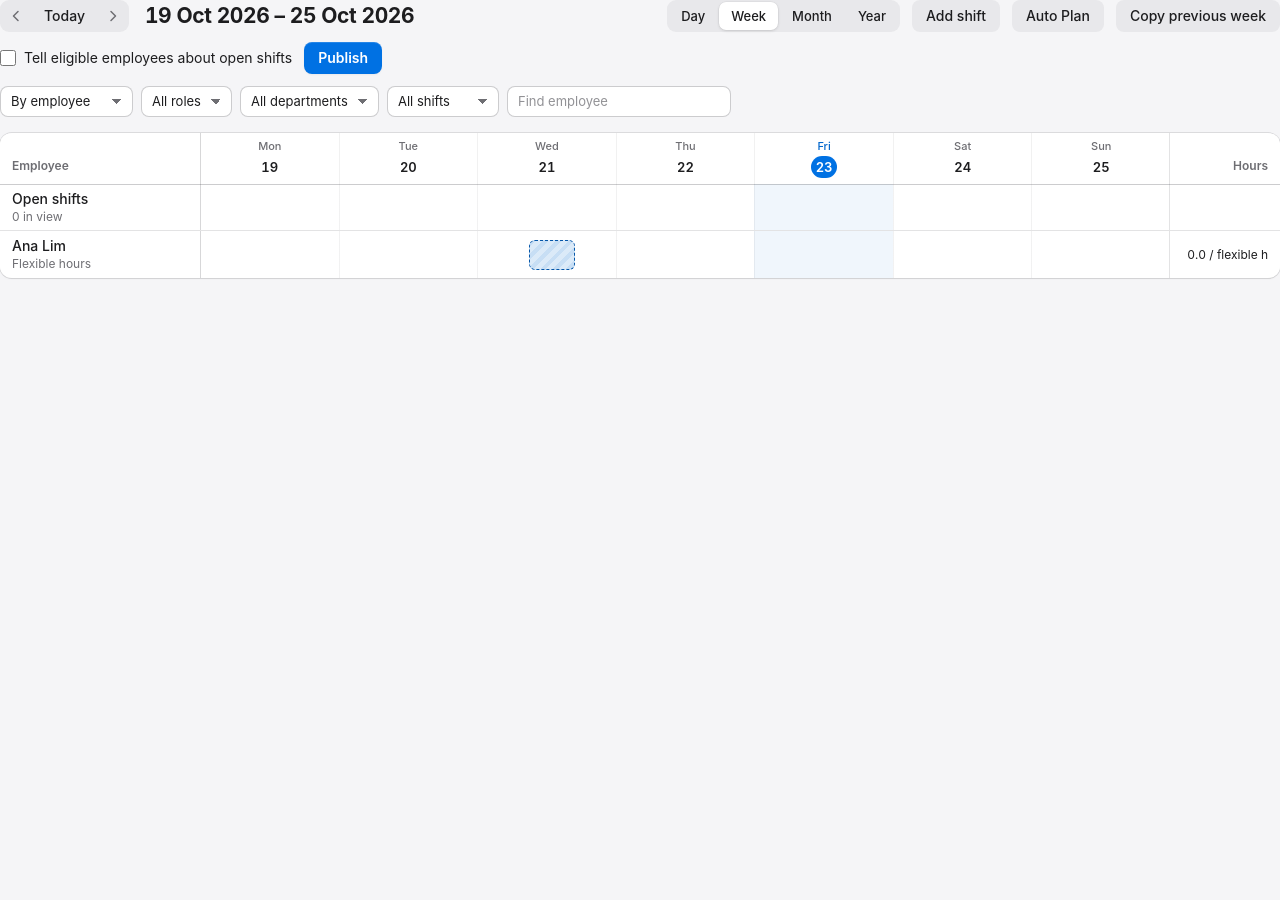
SchedulePage publish with open-shift notices (FR-OPN-04) › mentions the open-shift notices in the confirm dialog only when the box is ticked
Expected: the element named "Schedule" is shown, [0,133,1279,278]
Click the button "Publish".
click(343, 58)  # box [304,42,382,74]
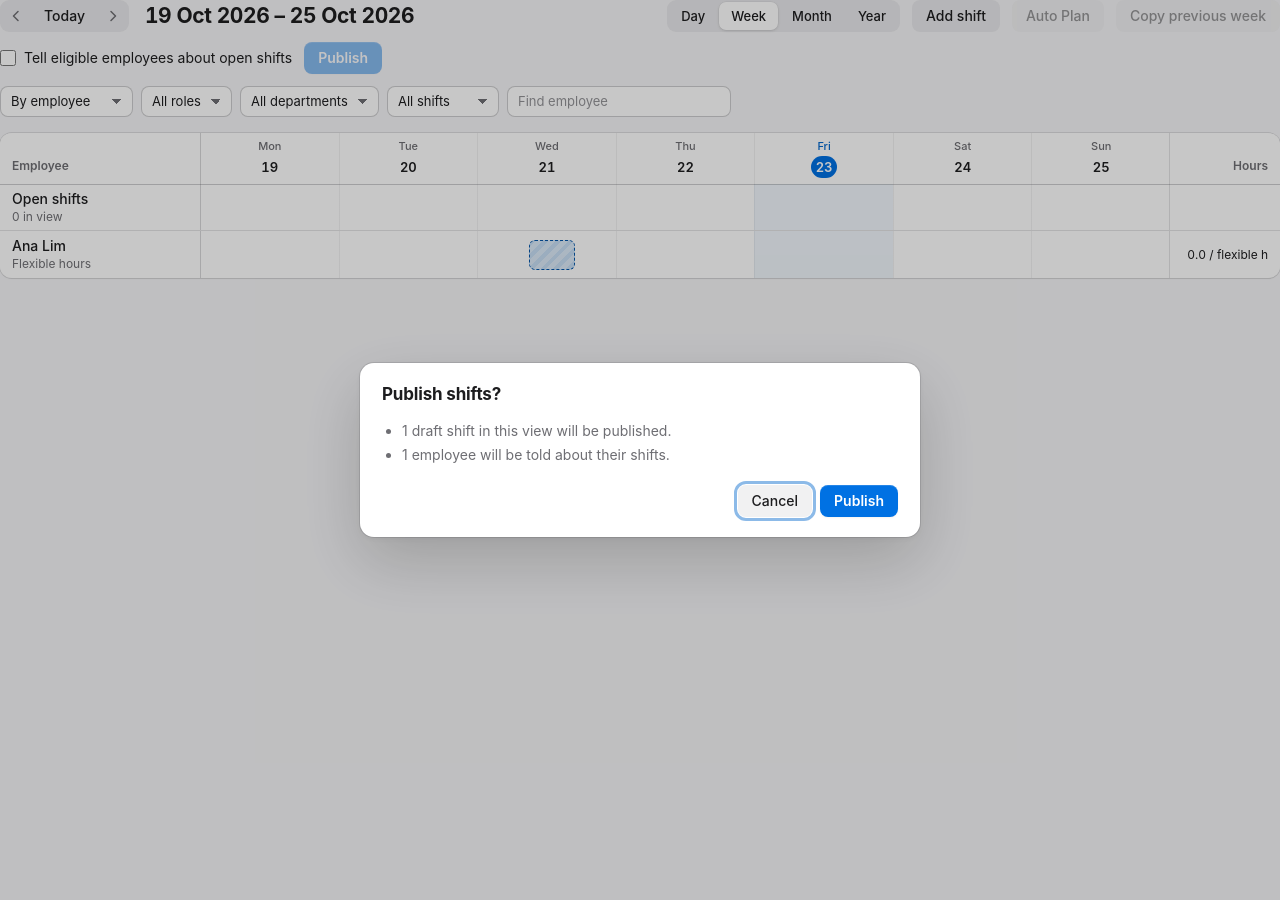
Expected: the text "Eligible employees will also be told about open shifts." is not shown
Click the button "Cancel".
click(775, 501)  # box [738,485,812,517]
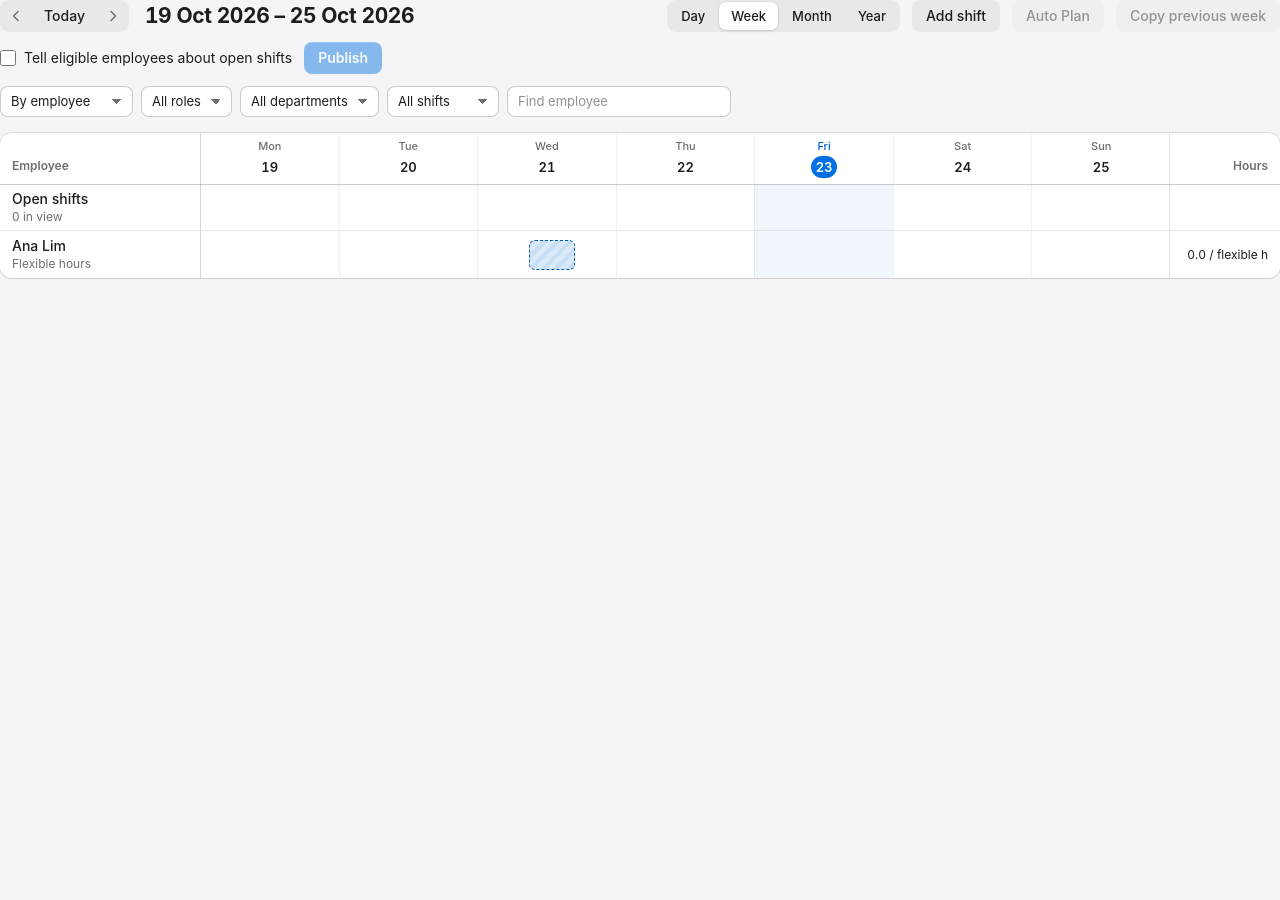
Now the dialog is gone
Click the checkbox labelled "Tell eligible employees about open shifts".
click(8, 58)  # box [0,50,16,66]
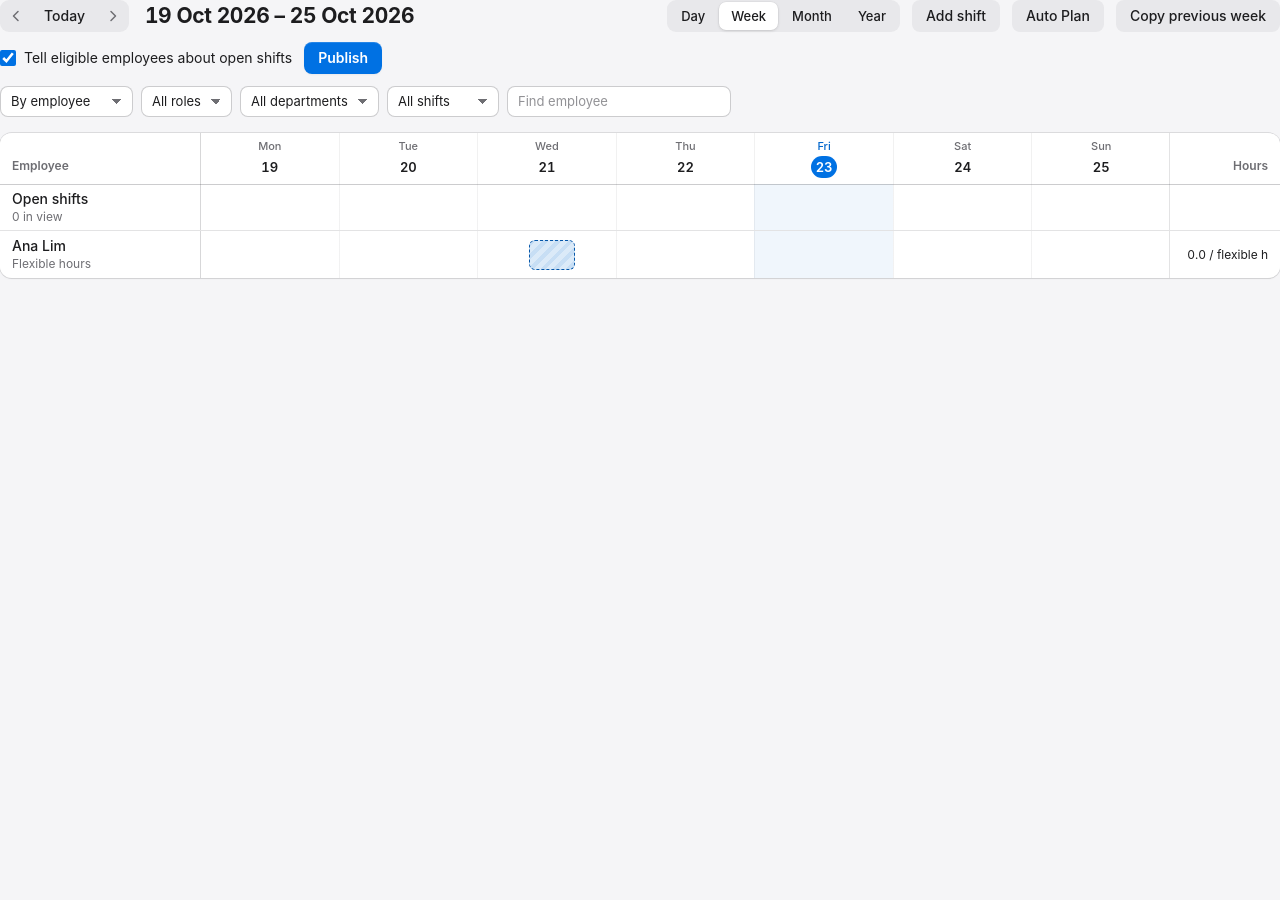
Click the button "Publish".
click(343, 58)  # box [304,42,382,74]
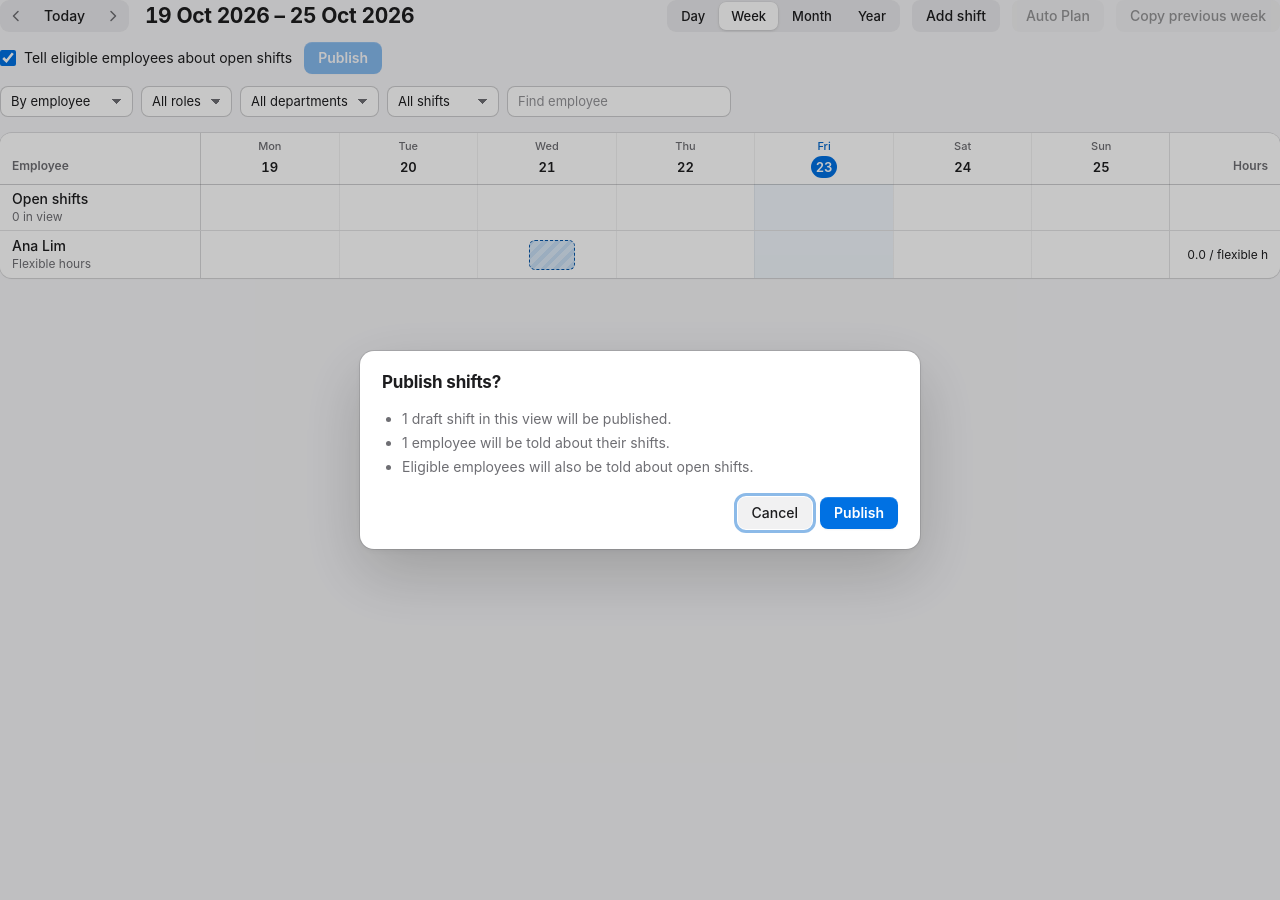
Now the list item "Eligible employees will also be told about open shifts." is shown, box [402,458,754,475]
